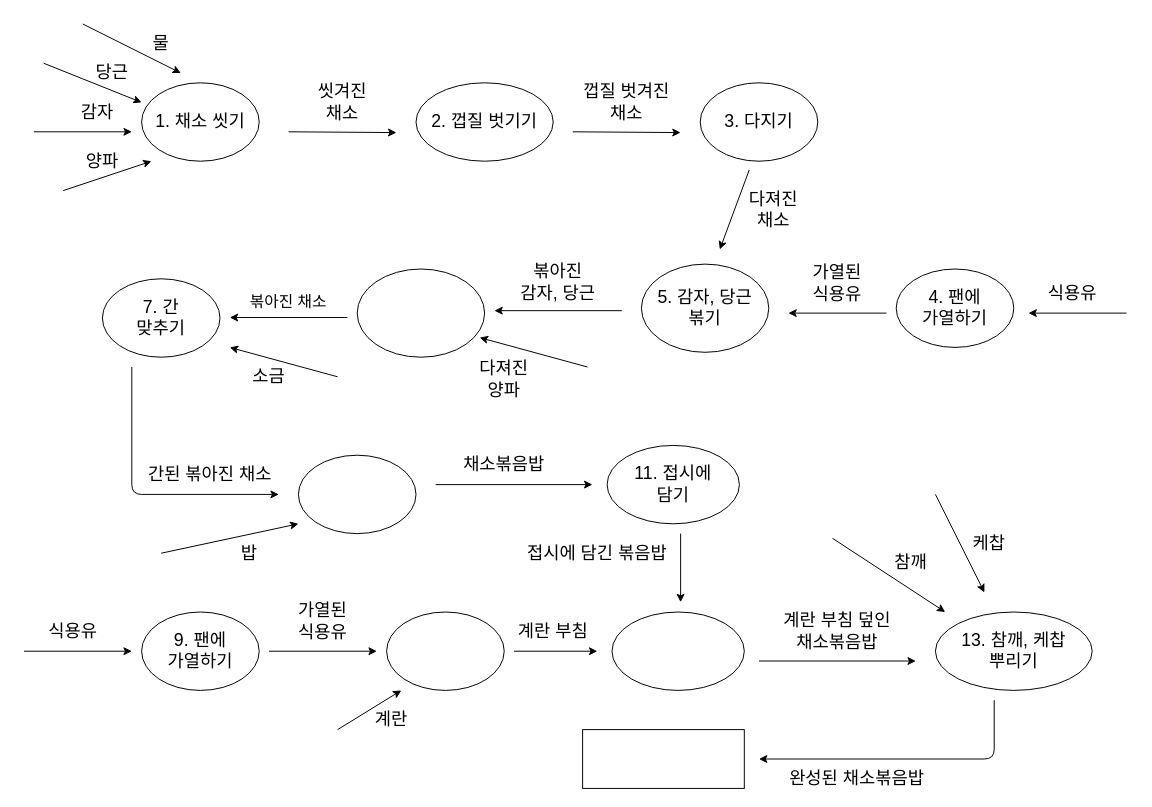
Some shapes in this 1152 by 807 pixel diagram are drawn without their labels. The box of each missing label's shape, as (x1, y1, x2, y2) in pixels:
10. 계란 부치기: (386, 611, 504, 690)
12. 볶음밥에 계란 부침 덮기: (611, 611, 744, 690)
6. 모든 채소 볶기: (356, 268, 485, 357)
8. 밥 넣고 볶기: (297, 454, 416, 534)
채소볶음밥 먹는 사람: (582, 729, 744, 788)
